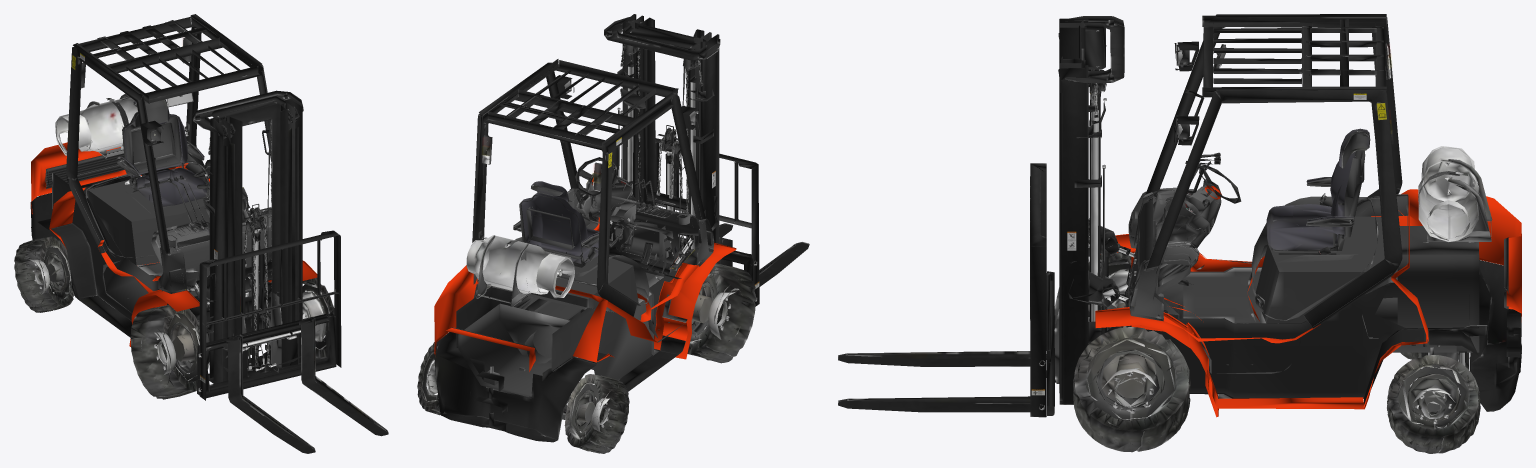
The model's file is vehicle_forklift_red_c01.glb.
The picture shows the model from 3 angles, left to right: view 1: azimuth 30°, elevation 25°; view 2: azimuth 150°, elevation 25°; view 3: azimuth 270°, elevation 25°; orthographic projection. The views are drawn at different scales.
Size of the model in its own units: 1.35 by 2.16 by 3.73.
10 materials, 9 textured.
